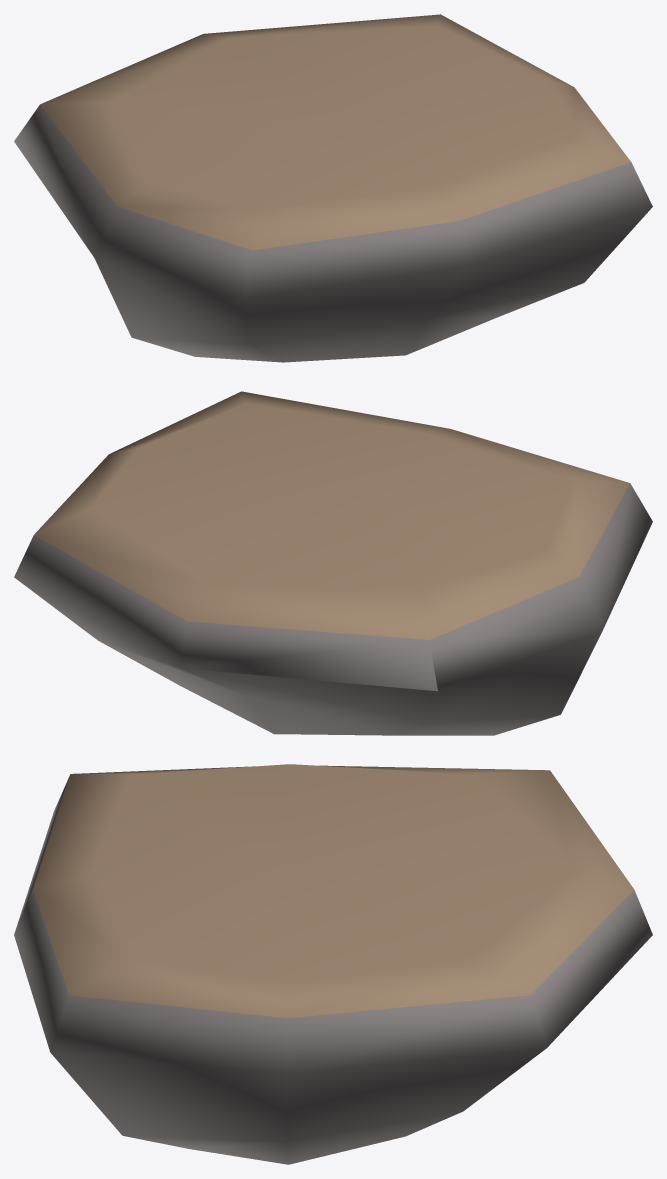
File: Schwebestein_5.fbx
The picture shows the model from 3 angles, top to bottom: view 1: azimuth 30°, elevation 25°; view 2: azimuth 150°, elevation 25°; view 3: azimuth 270°, elevation 25°; orthographic projection. The views are drawn at different scales.
Visible parts, largest first — view 1: Schwebestein_5; view 2: Schwebestein_5; view 3: Schwebestein_5.
Boxes of the visible parts, <box> form: Schwebestein_5: <box>14,14,652,362</box>; Schwebestein_5: <box>14,391,652,735</box>; Schwebestein_5: <box>14,764,652,1164</box>.
Bounding box in the file's own units: 648 × 267 × 616.
